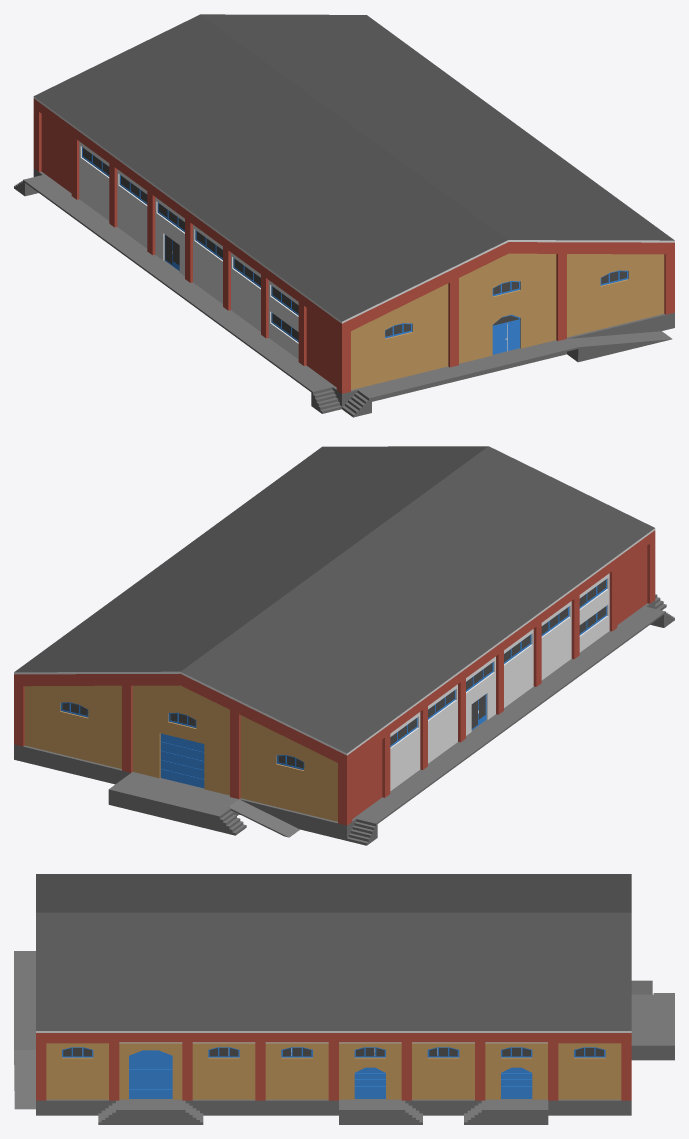
File: SpeicherK.fbx
The picture shows the model from 3 angles, top to bottom: view 1: azimuth 30°, elevation 25°; view 2: azimuth 150°, elevation 25°; view 3: azimuth 270°, elevation 25°; orthographic projection. The views are drawn at different scales.
Visible parts, largest first — view 1: Roof, Hall, Rise.006, Rise.001, Ground; view 2: Roof, Hall, Rise.006, Rise.005, Ground, LogisticBackDoor; view 3: Roof, Hall, Ground, Rise.001, Rise.005, Rise.002, LogisticSideDoor.001, Rise.004, Rise.003, LogisticSideDoor.002, LogisticSideDoor.003.
Boxes of the visible parts, x1=… form: Roof: x1=33, y1=14, x2=674, y2=335; Hall: x1=33, y1=110, x2=674, y2=393; Rise.006: x1=14, y1=175, x2=341, y2=413; Rise.001: x1=342, y1=331, x2=672, y2=417; Ground: x1=33, y1=168, x2=674, y2=406; Roof: x1=14, y1=446, x2=655, y2=766; Hall: x1=14, y1=542, x2=655, y2=825; Rise.006: x1=347, y1=606, x2=674, y2=845; Rise.005: x1=108, y1=773, x2=299, y2=837; Ground: x1=14, y1=600, x2=655, y2=840; LogisticBackDoor: x1=160, y1=733, x2=204, y2=788; Roof: x1=36, y1=874, x2=631, y2=1044; Hall: x1=36, y1=1043, x2=631, y2=1100; Ground: x1=36, y1=1048, x2=631, y2=1115; Rise.001: x1=14, y1=951, x2=35, y2=1109; Rise.005: x1=631, y1=980, x2=674, y2=1060; Rise.002: x1=98, y1=1100, x2=203, y2=1124; LogisticSideDoor.001: x1=129, y1=1050, x2=172, y2=1098; Rise.004: x1=464, y1=1100, x2=548, y2=1124; Rise.003: x1=339, y1=1100, x2=422, y2=1124; LogisticSideDoor.002: x1=501, y1=1067, x2=532, y2=1098; LogisticSideDoor.003: x1=354, y1=1067, x2=385, y2=1098.
Bounding box in the file's own units: 28.4 × 9.37 × 45.17.
